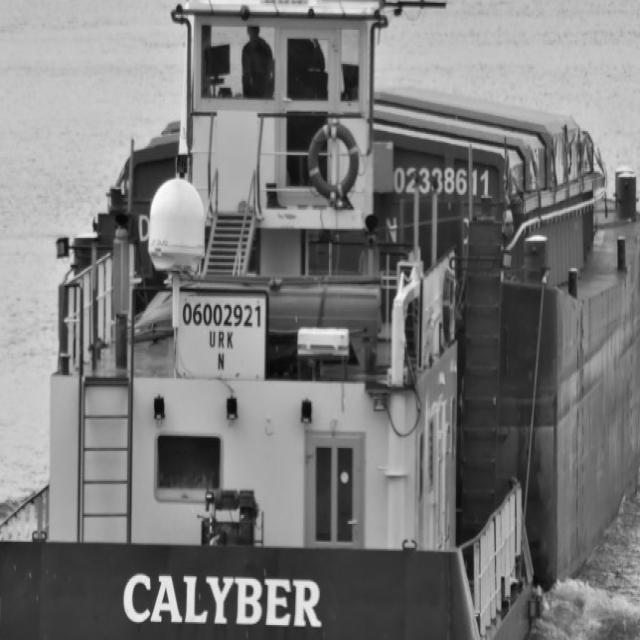tugboat: (1, 1, 549, 640)
